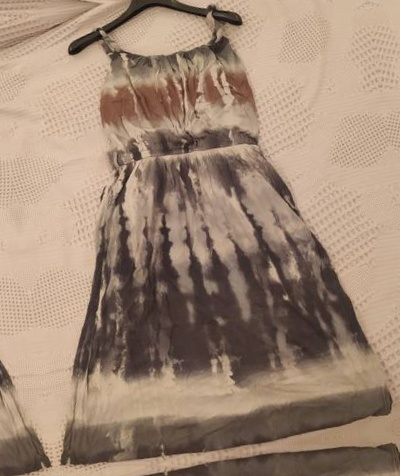Dress: (31, 0, 400, 460), (102, 441, 400, 476), (0, 41, 14, 476), (385, 0, 400, 405), (0, 0, 339, 1)
